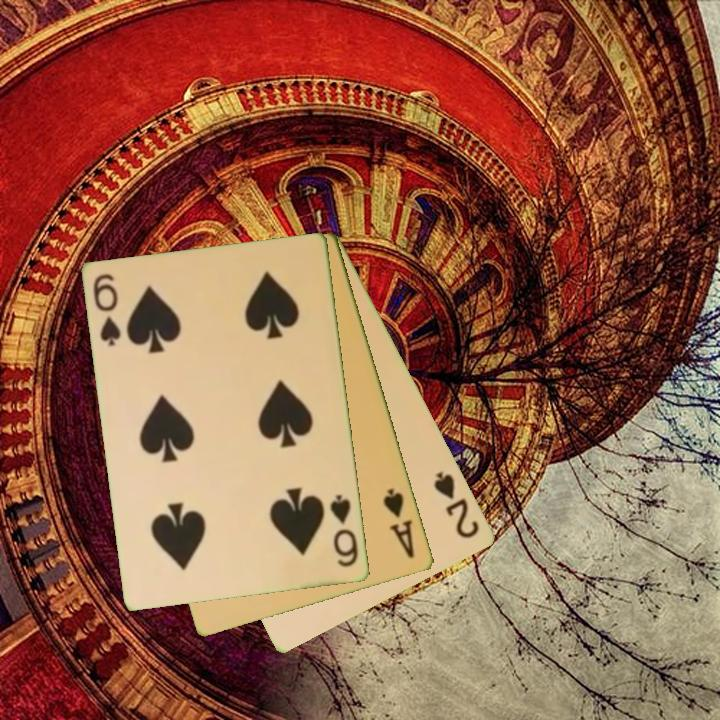2s: (430, 468, 483, 542)
6s: (327, 491, 362, 571), (90, 270, 124, 350)
As: (380, 485, 418, 562)
